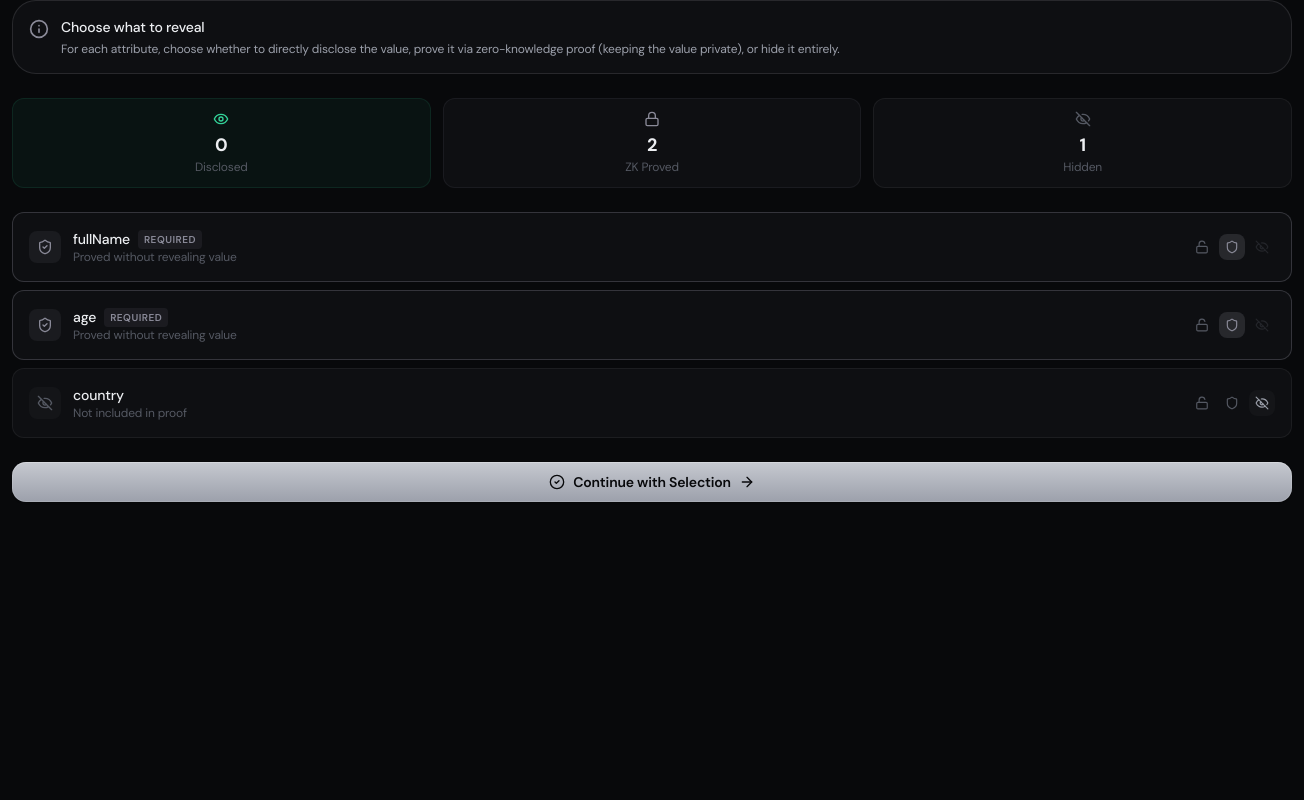
SelectiveDisclosureBuilder › changes attribute mode to disclose when disclose button is clicked
Click "Disclose value" for the first attribute (fullName)
Step 1. Click the button titled "Disclose value" in the row of "fullName" → {"x": 1202, "y": 247}, box [1189,234,1215,260]
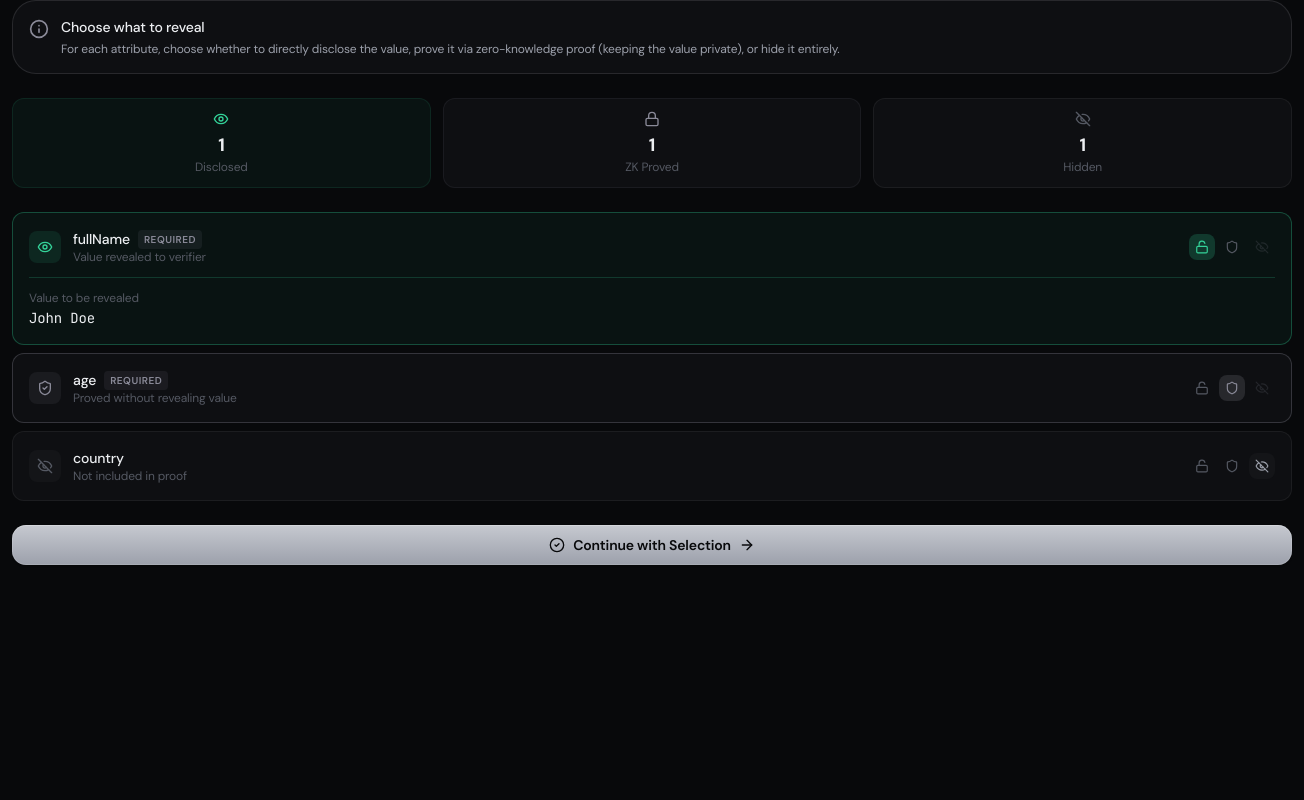
Expected: the text "Value to be revealed" is shown, [29,290,139,306]
Expected: the text "John Doe" is shown, [29,309,95,327]
